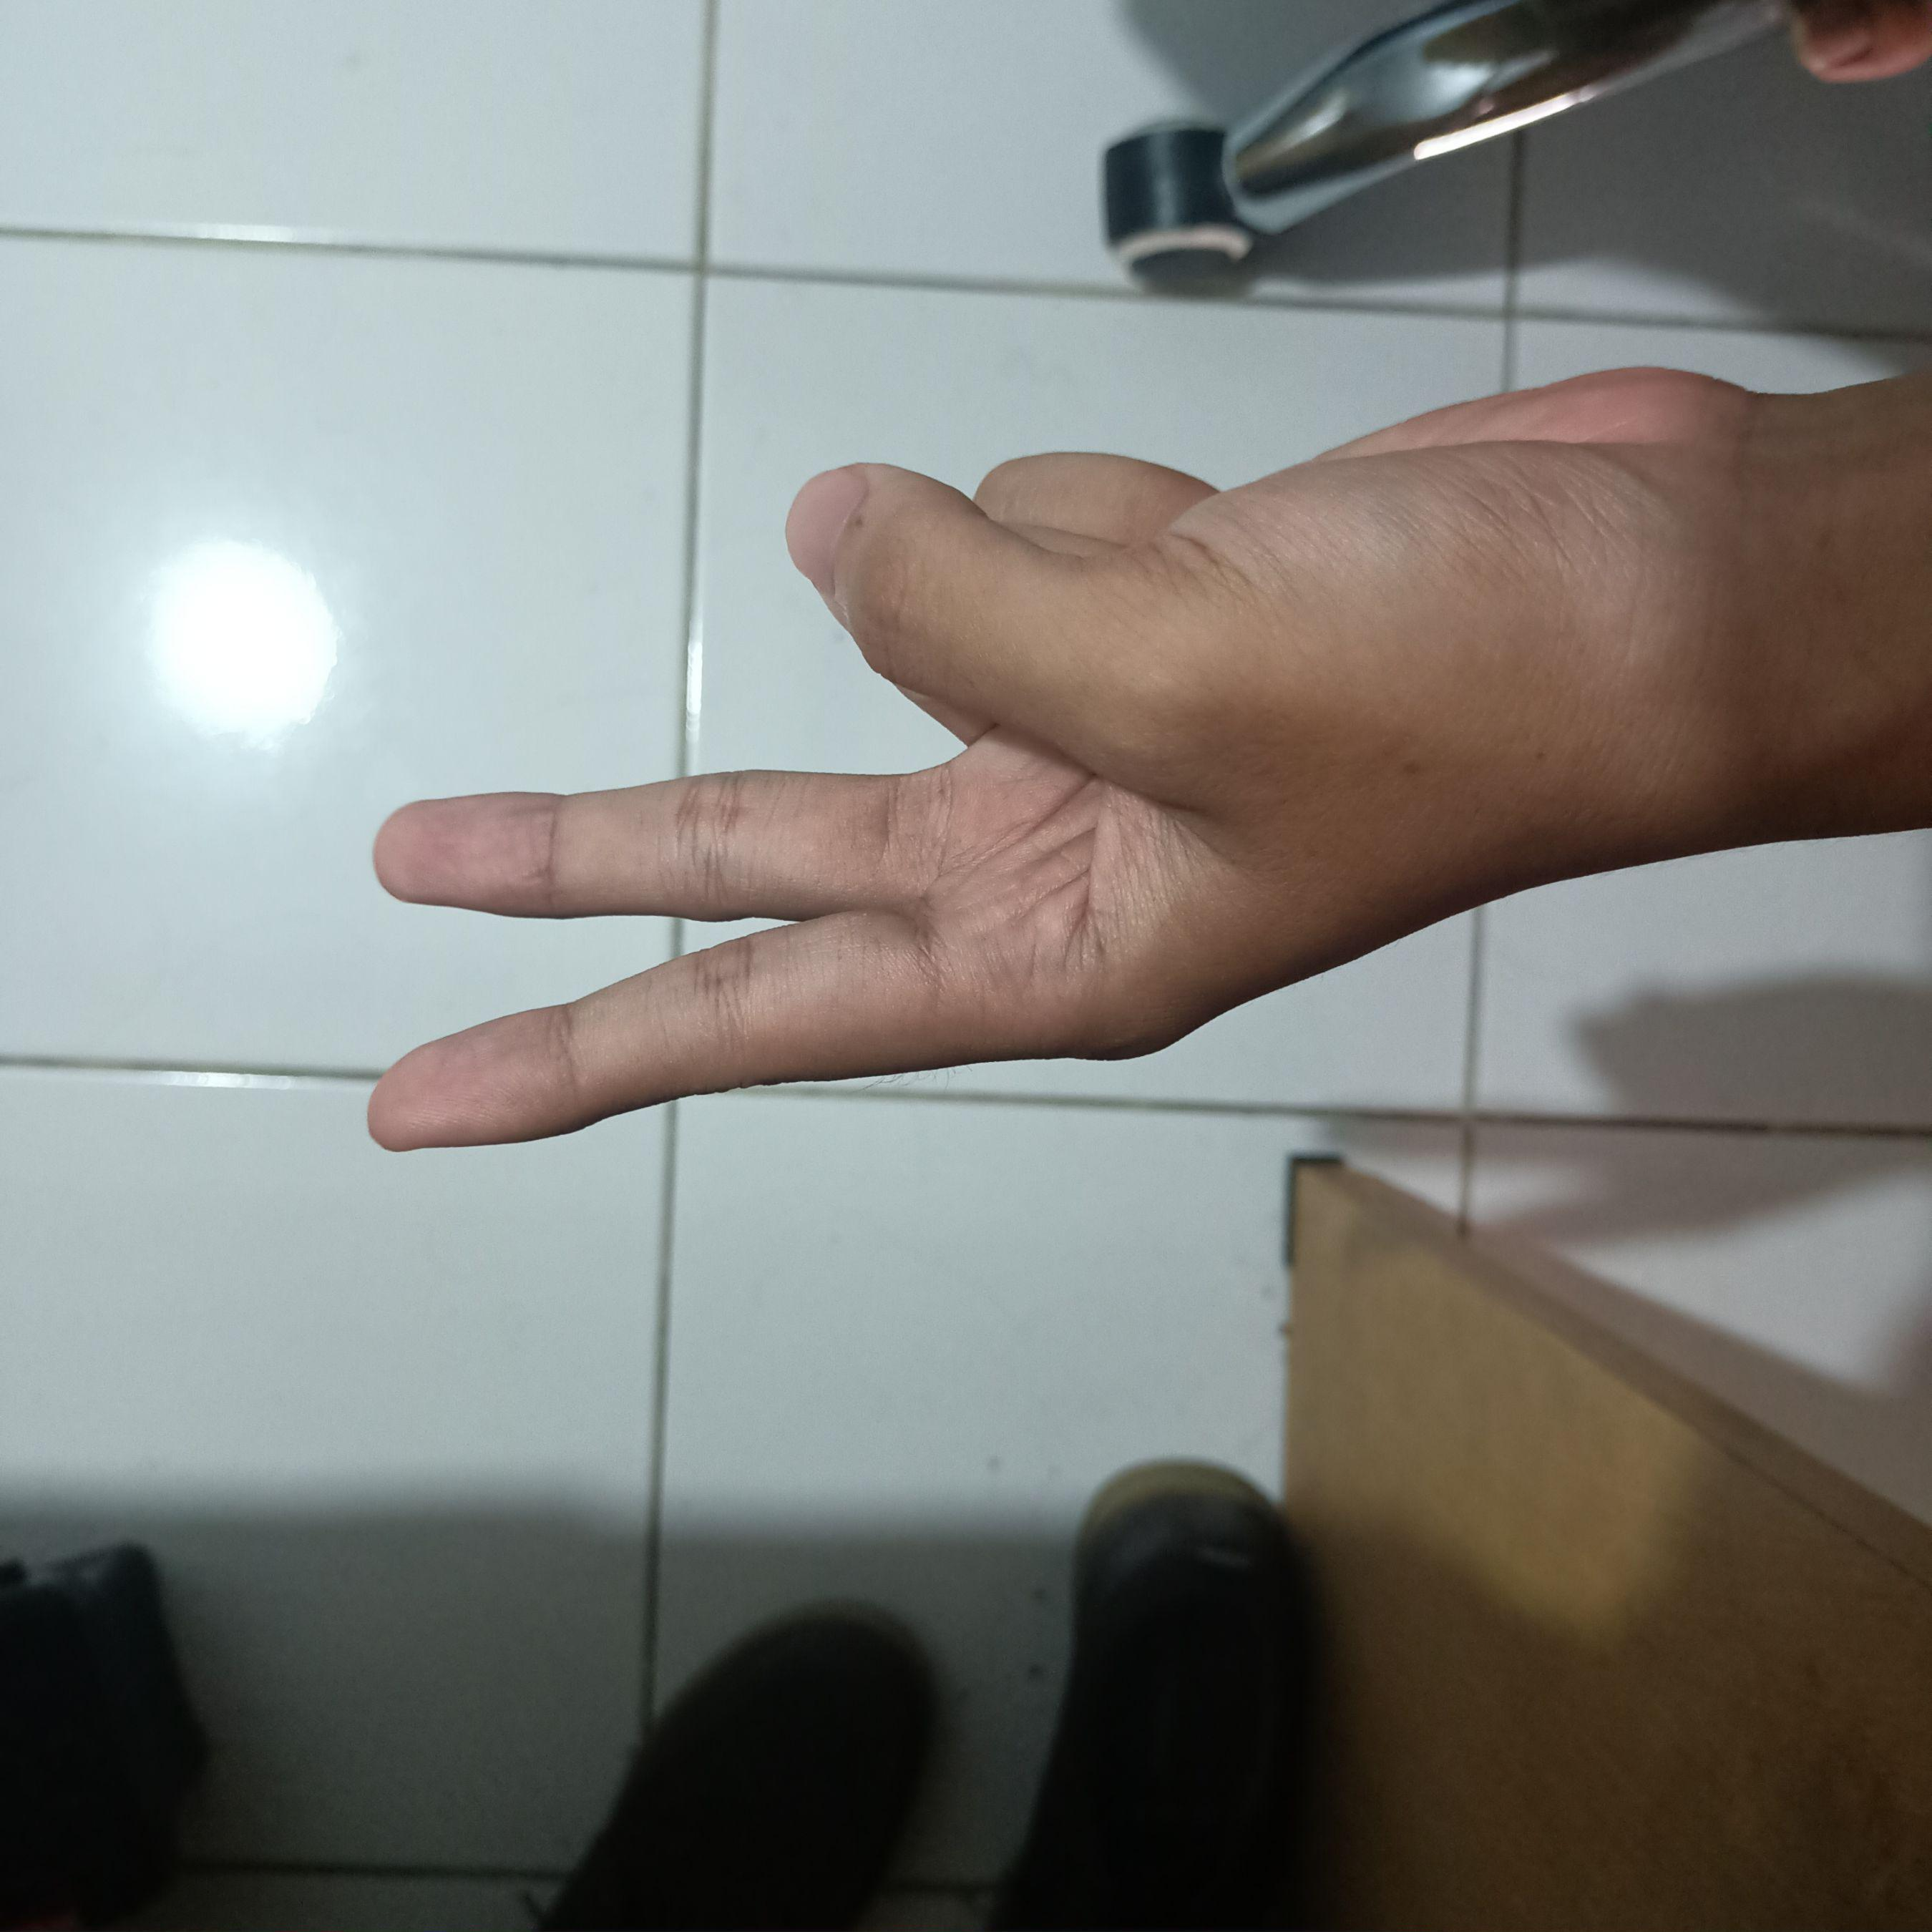scissors: (327, 327, 1759, 1173)
